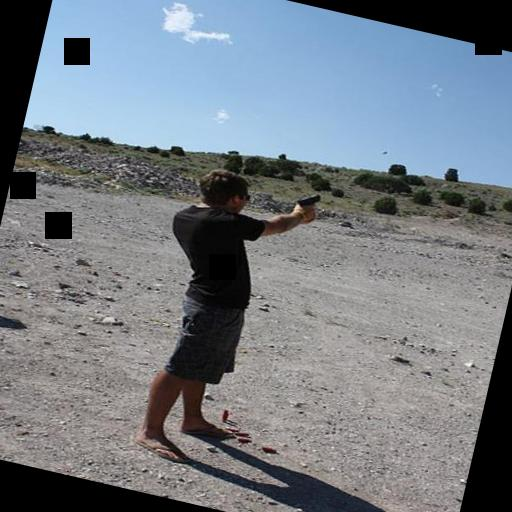Handgun: (290, 186, 322, 214)
